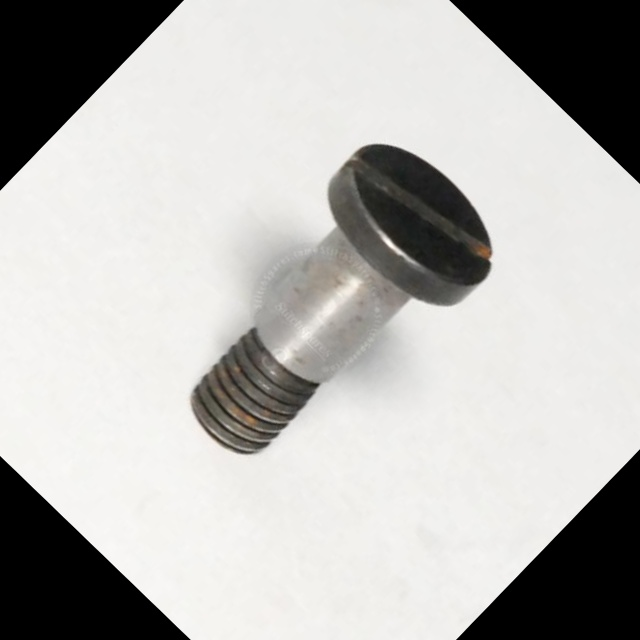duz: (303, 114, 522, 331)
